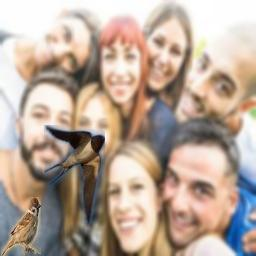Sparrow: (1, 197, 41, 256)
Swallow: (44, 125, 105, 224)
